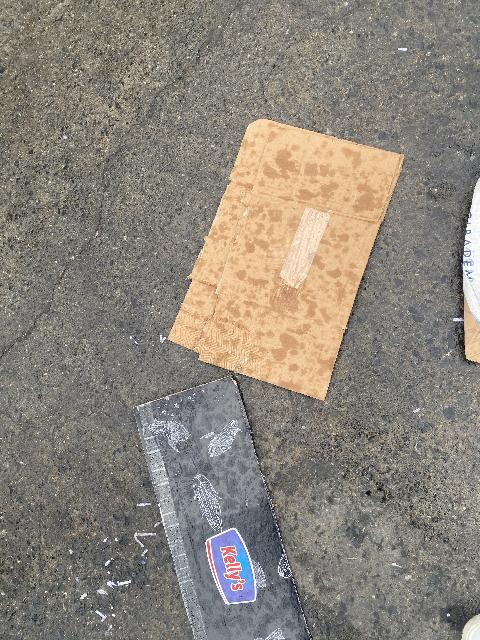Kagit: (152, 84, 427, 397), (111, 395, 348, 640)
